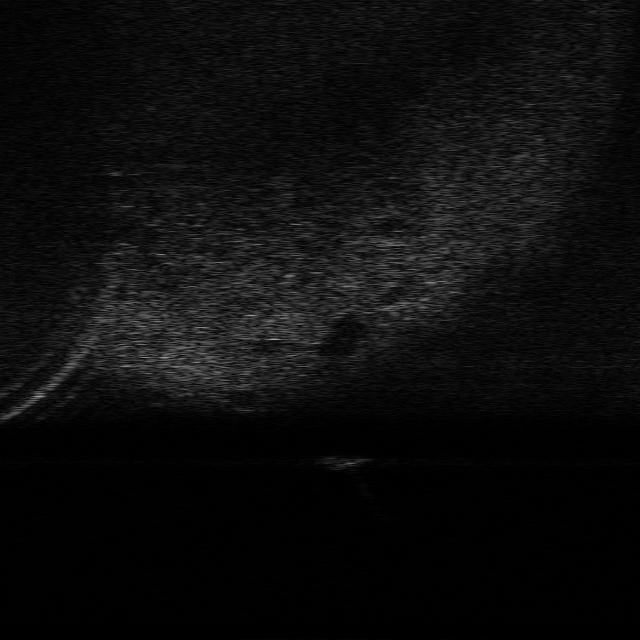cube: (322, 455, 372, 471)
